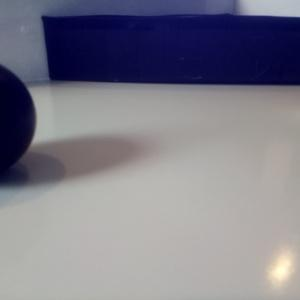zone: (41, 12, 300, 85)
